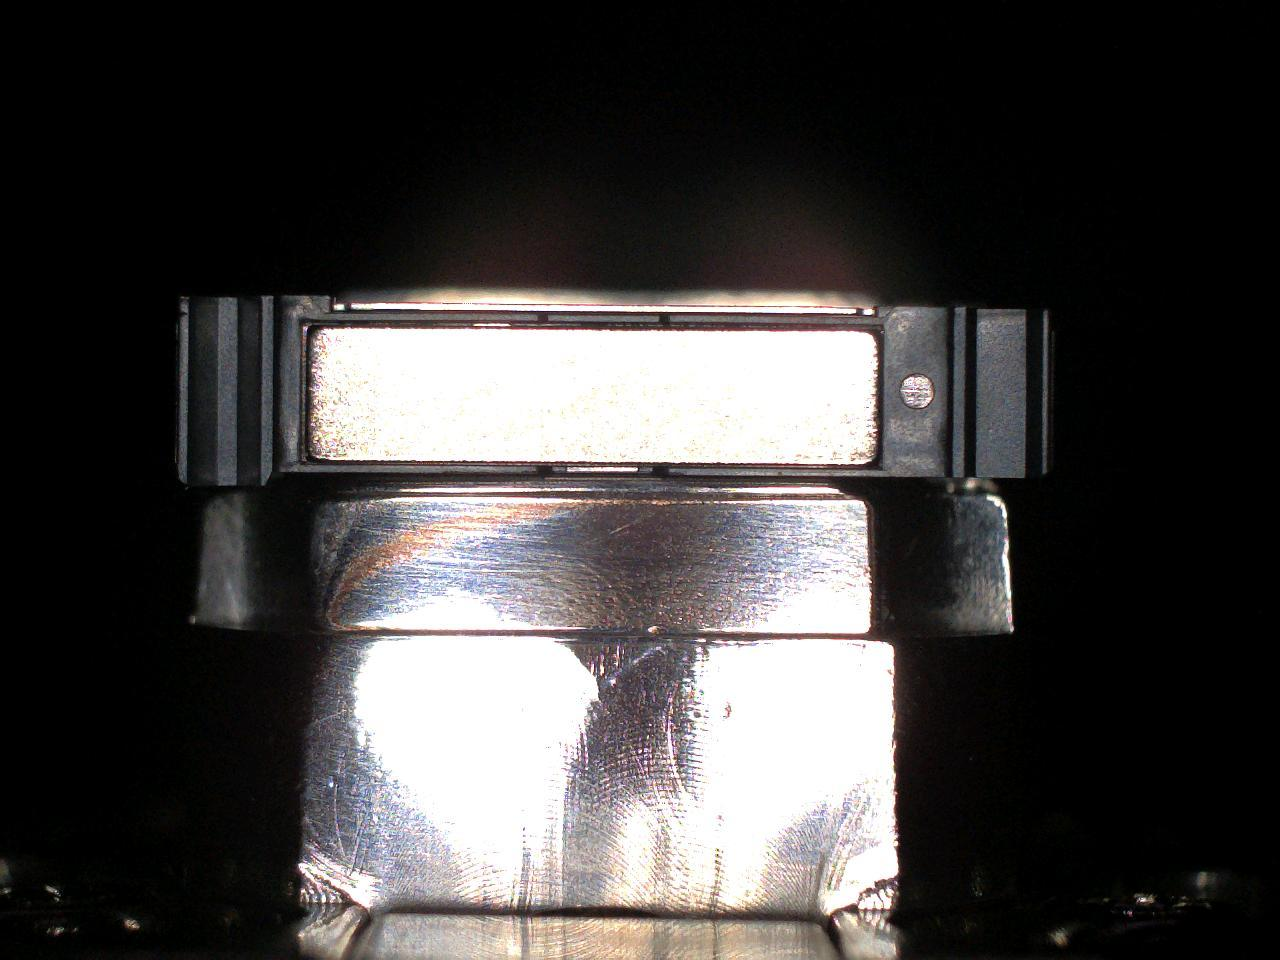frame: (175, 296, 1051, 490), (545, 313, 660, 322)
gap: (669, 323, 886, 333), (305, 459, 541, 467), (667, 462, 886, 470), (307, 321, 542, 328), (546, 322, 662, 330), (550, 463, 653, 469)
magnetic: (309, 328, 878, 465)
